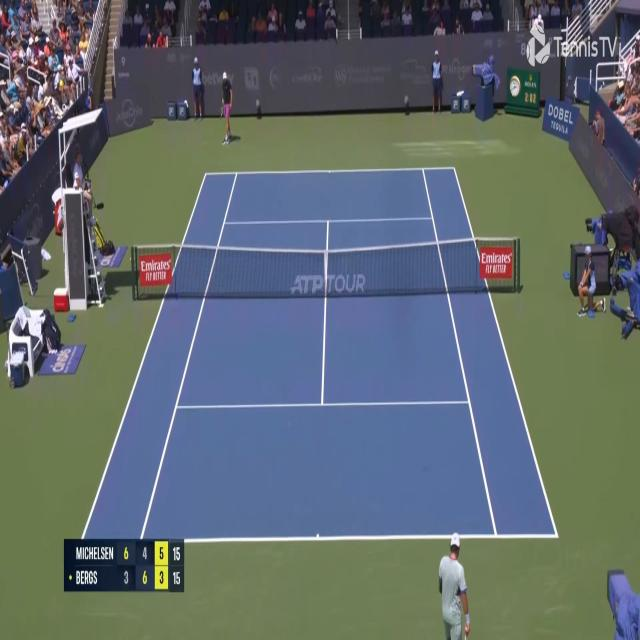tennis-player: (440, 530, 471, 639), (220, 69, 233, 146)
